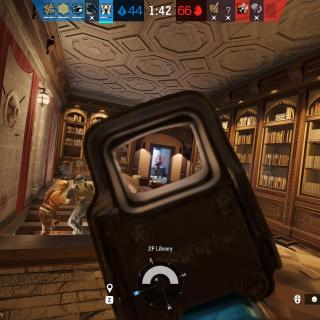Character: (67, 173, 95, 237), (38, 179, 70, 235), (153, 156, 166, 180)
Friend_label: (63, 159, 94, 175), (50, 164, 74, 181), (258, 162, 279, 175)
Head: (58, 180, 69, 191), (74, 174, 86, 183), (158, 156, 162, 160)
